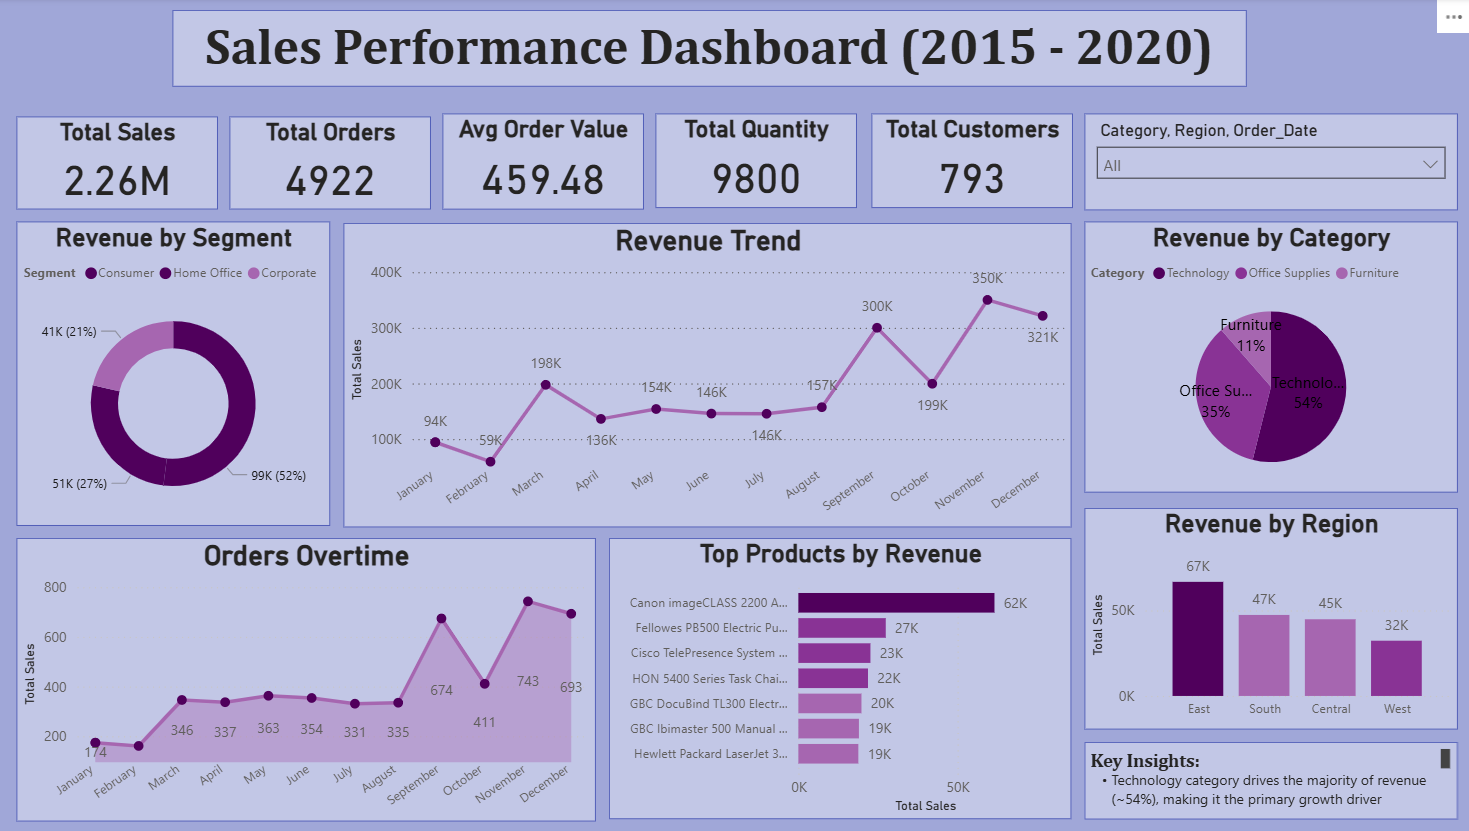

The page's visual inventory and layout, read from the dashboard file:
{"tool":"powerbi","page":{"name":"Page 1","canvas":[1280,720],"ordinal":0},"visuals":[{"type":"shape","box":[0,0,1270.5,719.2],"z":0},{"type":"card","title":"Total Sales","fields":{"Values":["sales.Total_sales"]},"box":[16.8,102,173,80.1],"z":1000},{"type":"textbox","box":[151.1,10.3,924.5,65.9],"z":2000},{"type":"card","title":"Total Orders","fields":{"Values":["sales.Total_orders"]},"box":[200.1,102,173,80.1],"z":3000},{"type":"card","title":"Avg Order Value","fields":{"Values":["sales.Avg_Order_Value"]},"box":[383.5,99.4,173,82.6],"z":4000},{"type":"card","title":"Total Customers","fields":{"Values":["sales.Total Customers"]},"box":[752.8,99.4,173,81.3],"z":5000},{"type":"card","title":"Total Quantity","fields":{"Values":["sales.Total Quantity"]},"box":[566.8,99.4,173,81.3],"z":6000},{"type":"lineChart","title":"Revenue Trend","fields":{"Y":["sales.Total_sales"],"Category":["sales.Order_Date.Variation.Date Hierarchy.Month"]},"box":[298.3,193.8,626.9,262],"z":7000},{"type":"clusteredBarChart","title":"Top Products by Revenue","fields":{"Category":["sales.Product_Name"],"Y":["sales.Total_sales"]},"box":[526.9,464.9,398.2,242.3],"z":8000},{"type":"clusteredColumnChart","title":"Revenue by Region","fields":{"Y":["sales.Total_sales"],"Category":["sales.Region"]},"box":[935.8,439.1,321,190.8],"z":9000},{"type":"donutChart","title":"Revenue by Segment","fields":{"Y":["sales.Total_sales"],"Category":["sales.Segment"]},"box":[16.8,192.4,269.9,262.1],"z":10000},{"type":"stackedAreaChart","title":"Orders Overtime","fields":{"Category":["sales.Order_Date.Variation.Date Hierarchy.Month"],"Y":["sales.Total_orders"]},"box":[16.8,464.8,498.4,244],"z":11000},{"type":"pieChart","title":"Revenue by Category","fields":{"Category":["sales.Category"],"Y":["sales.Total_sales"]},"box":[935.8,192.3,321,233.2],"z":12000},{"type":"slicer","title":"Filter","fields":{"Values":["sales.Category","sales.Region","sales.Order_Date"]},"box":[935.8,99.9,321,83.3],"z":13000},{"type":"textbox","box":[935.8,640.5,321,66.6],"z":14000}]}

Visuals, with their boxes in screenshot pixels (x1, y1, x2, y2), scaled from the page's 1280x720 canvas onto the 1469x831 screenshot:
shape: select_region(0, 0, 1458, 830)
"Total Sales" card: select_region(19, 118, 218, 210)
textbox: select_region(173, 12, 1234, 88)
"Total Orders" card: select_region(230, 118, 428, 210)
"Avg Order Value" card: select_region(440, 115, 639, 210)
"Total Customers" card: select_region(864, 115, 1063, 209)
"Total Quantity" card: select_region(650, 115, 849, 209)
"Revenue Trend" lineChart: select_region(342, 224, 1062, 526)
"Top Products by Revenue" clusteredBarChart: select_region(605, 537, 1062, 816)
"Revenue by Region" clusteredColumnChart: select_region(1074, 507, 1442, 727)
"Revenue by Segment" donutChart: select_region(19, 222, 329, 525)
"Orders Overtime" stackedAreaChart: select_region(19, 536, 591, 818)
"Revenue by Category" pieChart: select_region(1074, 222, 1442, 491)
"Filter" slicer: select_region(1074, 115, 1442, 211)
textbox: select_region(1074, 739, 1442, 816)
